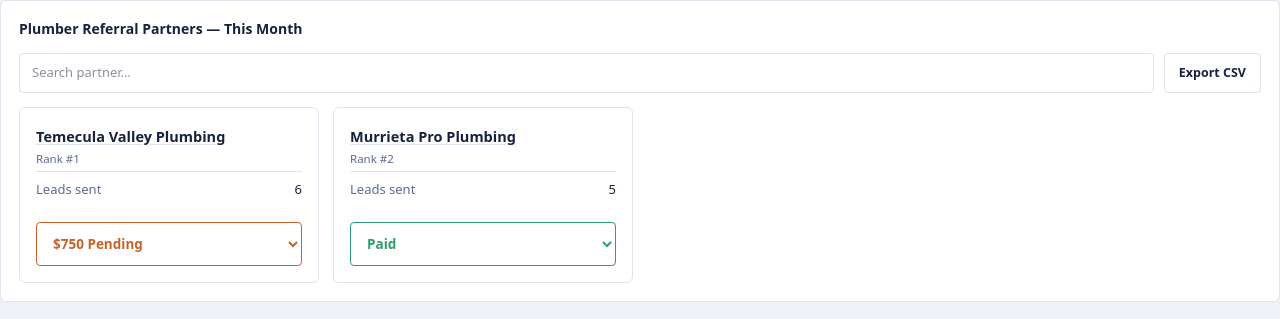
Test: ReferralLeaderboardView › settling a pending fee reports the decreased pending total and shows an Undo link
Select "Approve Fee" in the 1st dropdown at coordinates (169, 244), box [36,222,302,266]
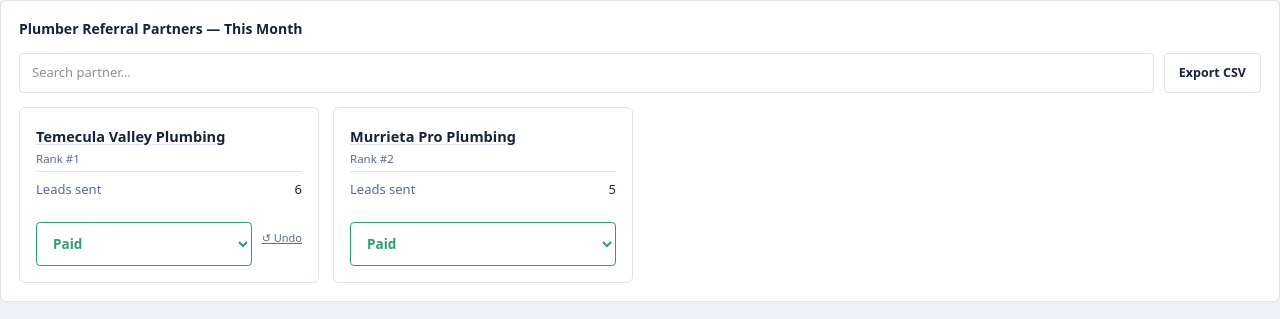
Check: the button "↺ Undo" is shown, box [262,230,302,246]
